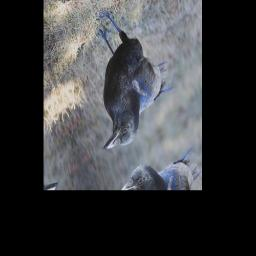Crow: (69, 0, 181, 161)
